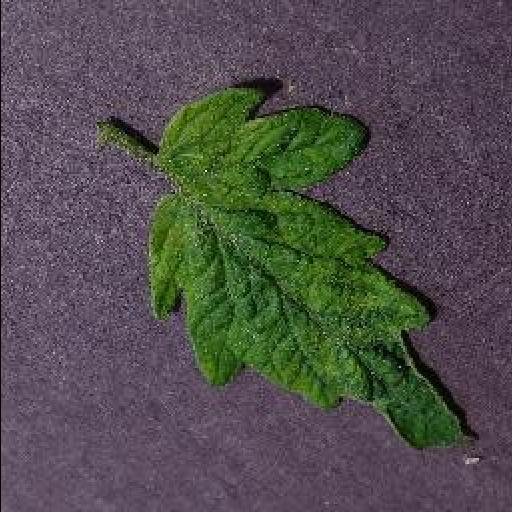Mosaic Virus: (146, 84, 476, 454)
